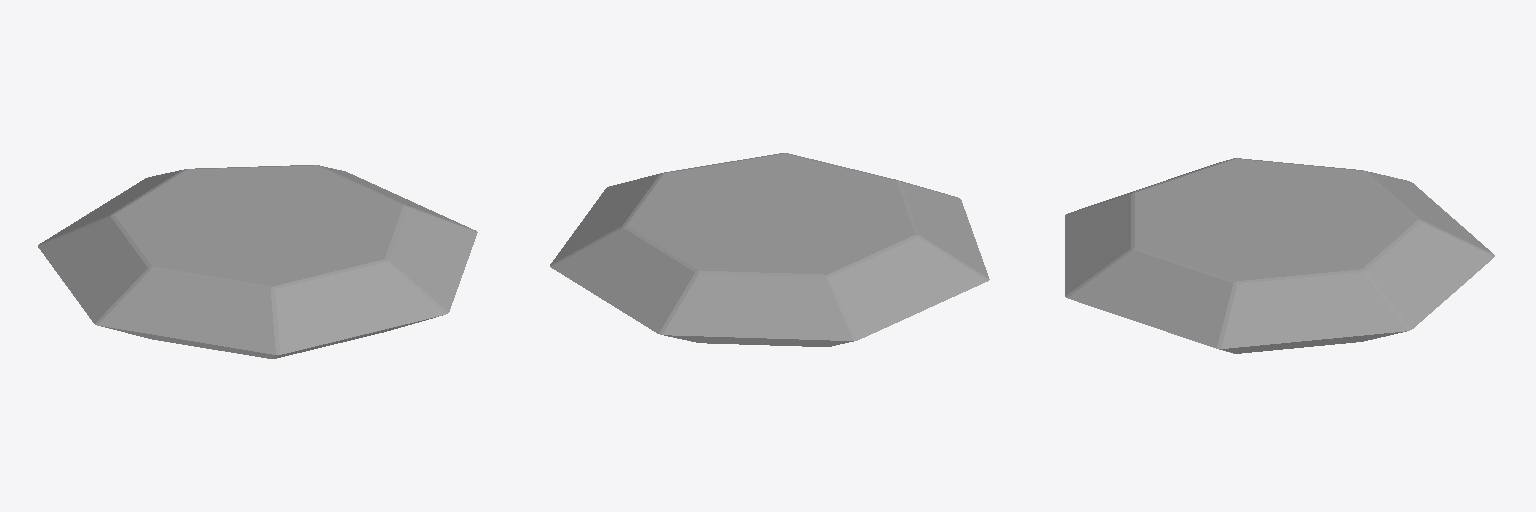
Rendered from gem-7.obj.
3 renders of one model, left to right at view 1: azimuth 30°, elevation 25°; view 2: azimuth 150°, elevation 25°; view 3: azimuth 270°, elevation 25°, orthographic.
Visible parts, largest first — view 1: gem_Cube; view 2: gem_Cube; view 3: gem_Cube.
Part boxes in pixels (bbox=[...]): gem_Cube: bbox=[38, 165, 477, 358]; gem_Cube: bbox=[550, 153, 989, 346]; gem_Cube: bbox=[1065, 158, 1494, 353].
Size of the model in its own units: 19.45 by 3.5 by 18.96.